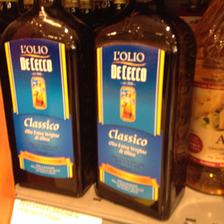oil: (92, 1, 200, 221), (2, 1, 91, 199)
